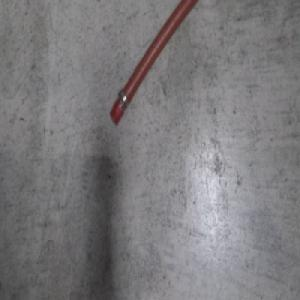Hose: (107, 0, 200, 127)
